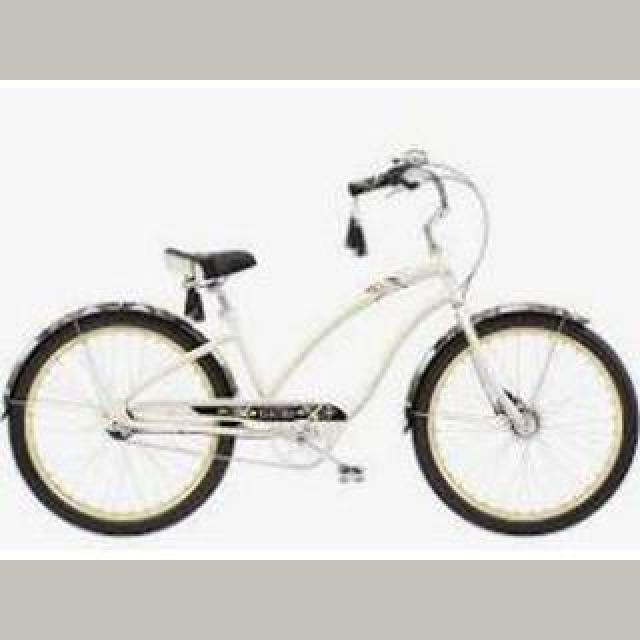Person: (0, 149, 640, 539)
